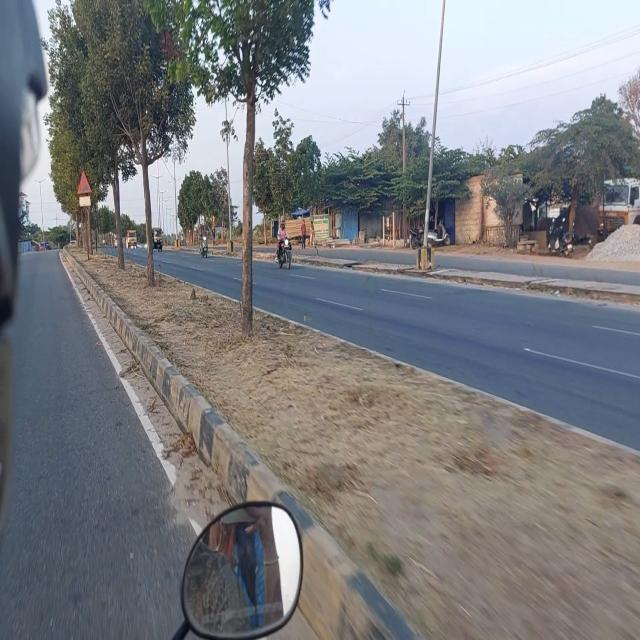bien_cam: (76, 167, 92, 195)
